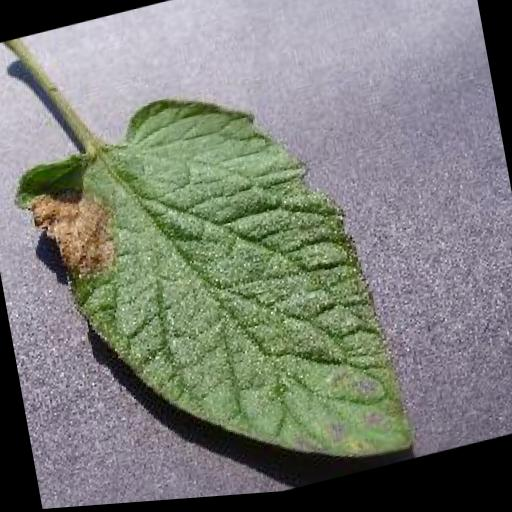Late Blight: (1, 51, 413, 512)
